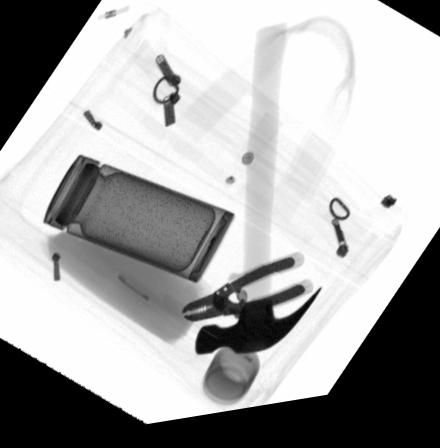Hammer: (193, 34, 321, 364)
Pliers: (180, 262, 314, 330)
